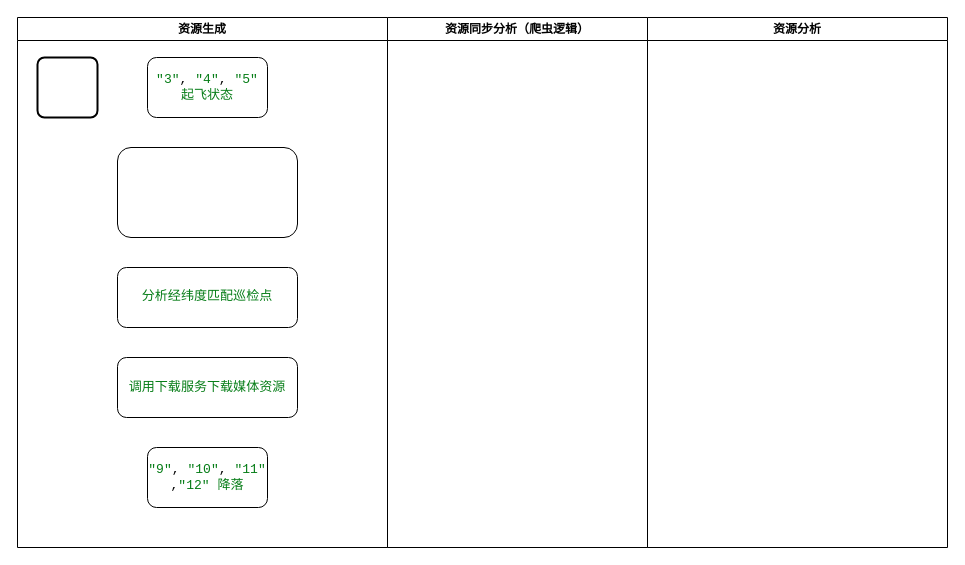
This 965x565 diagram has some shape labels left out. Here are the shapes that lost their labels. From the top down, the centre of each, then its label:
the point at 67,87: 无人机起飞 上报数据
the point at 207,192: 1. websocket推送数据 2. 分析任务状态记录到 dji_flight_task_t表
